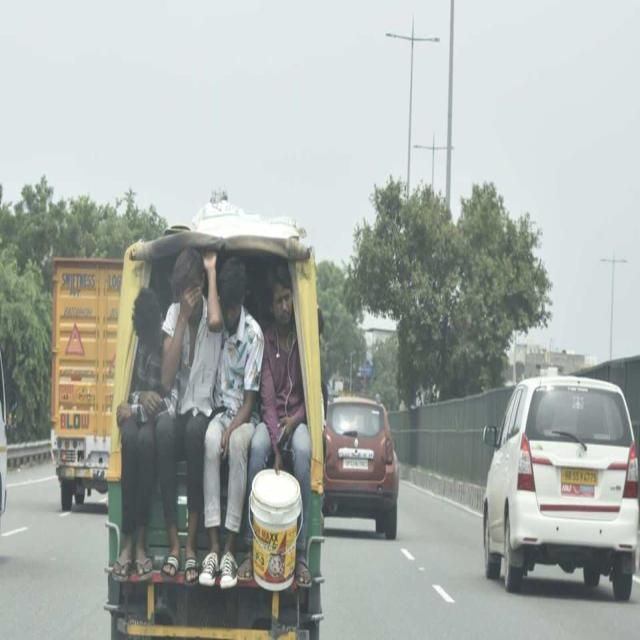autorickshaw: (106, 200, 322, 637)
car: (484, 376, 639, 600), (324, 396, 399, 540)
truck: (51, 258, 122, 510)
